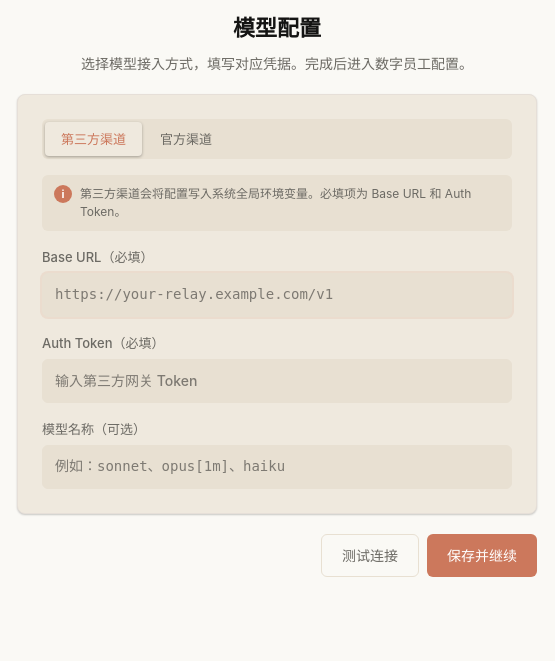
Test: ModelConfig Page › Test connection › shows error message when test fails
Type "https://example.com/v1" into the field with placeholder "https://your-relay.example.com/v1" at (277, 295), box [42,273,512,317]
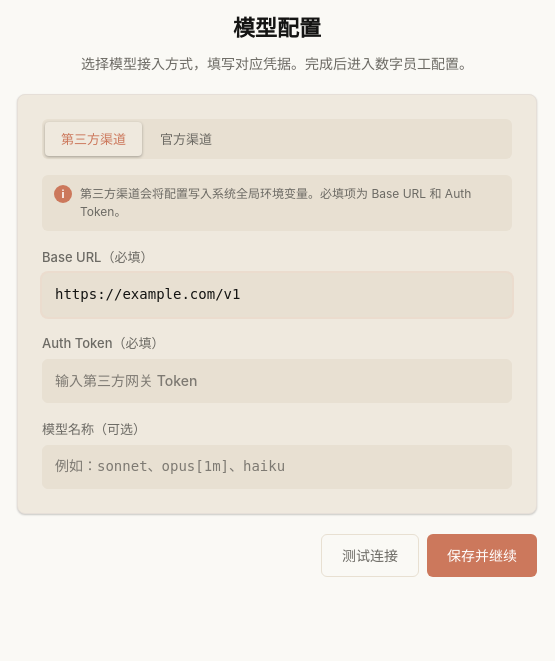
Type "test-token" into the password field with placeholder "输入第三方网关 Token" at (277, 381), box [42,359,512,403]
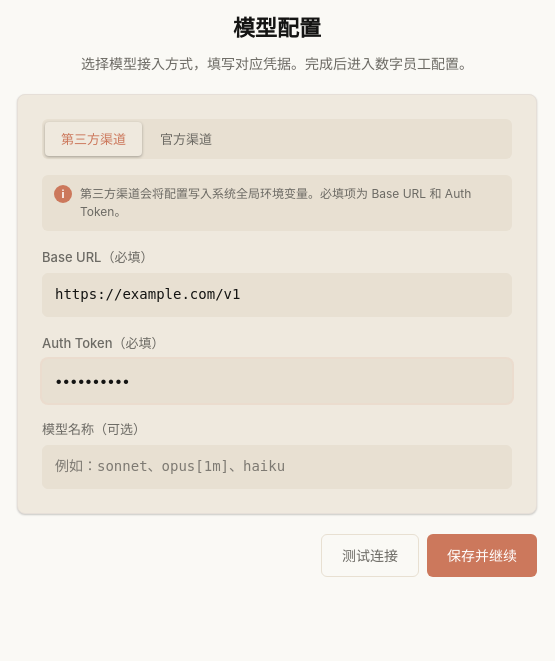
Click the button "测试连接" at (370, 556), box [321,534,419,577]
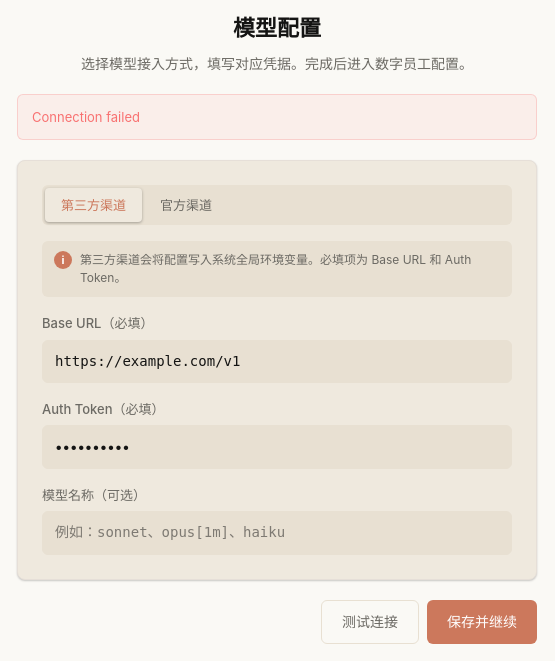
Expected: the text "Connection failed" is shown, [17,94,537,140]
